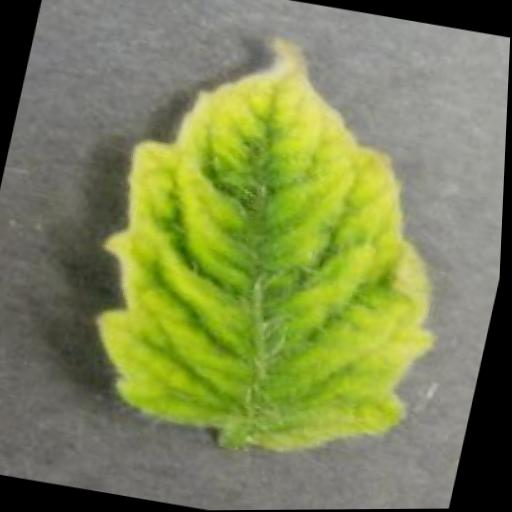Yellow Leaf Curl Virus: (67, 15, 497, 481)
